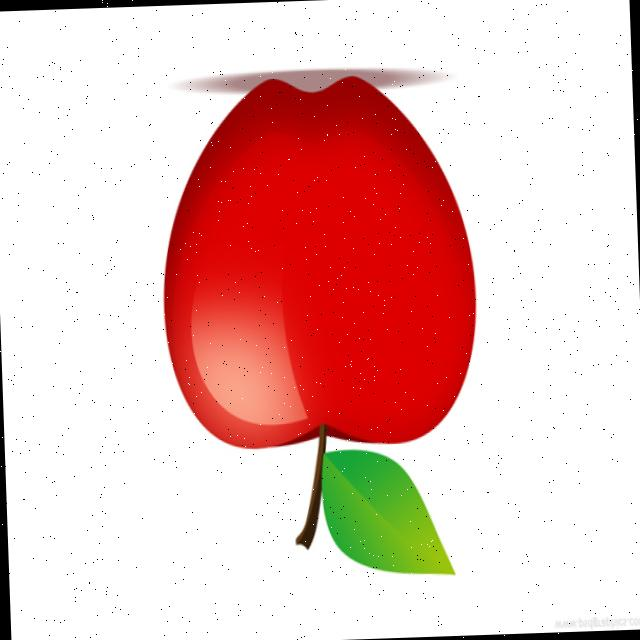Apel: (155, 70, 486, 584)
